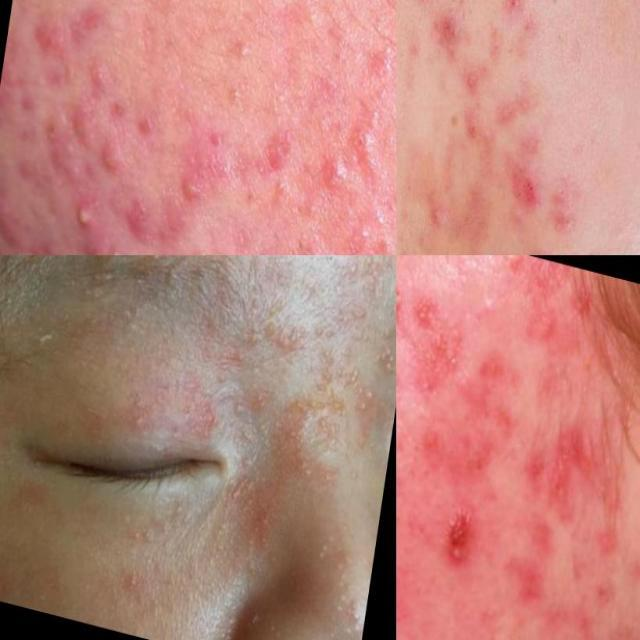Pimples: (172, 112, 258, 206), (26, 109, 108, 203), (238, 102, 311, 200), (538, 422, 602, 530), (67, 30, 128, 117), (295, 150, 360, 222), (54, 174, 108, 255), (8, 18, 76, 74), (495, 549, 550, 614), (0, 180, 46, 256), (50, 192, 112, 248), (436, 506, 475, 587), (410, 342, 450, 415), (428, 11, 470, 77), (158, 168, 214, 216), (500, 164, 546, 218), (89, 142, 138, 192), (472, 354, 524, 400), (66, 93, 111, 145), (508, 448, 550, 502), (418, 424, 456, 476), (586, 571, 618, 628), (464, 437, 492, 486), (368, 337, 396, 380), (418, 202, 450, 238), (455, 110, 480, 152), (492, 0, 524, 30), (462, 63, 484, 100), (396, 281, 403, 325)
